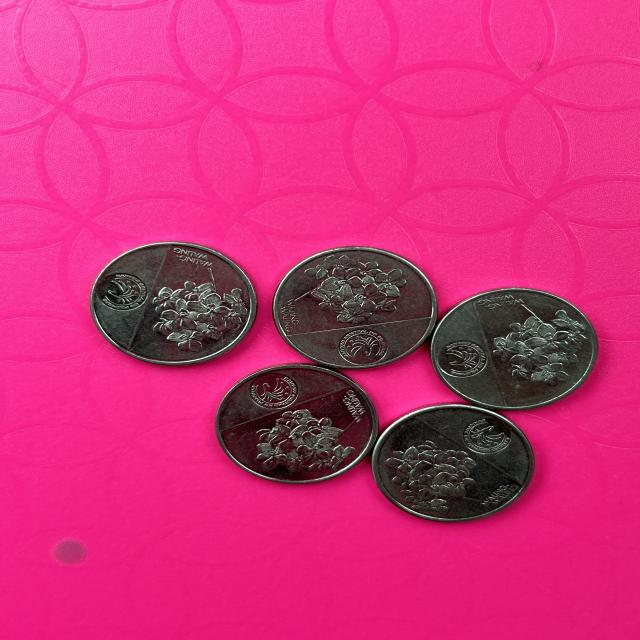1_New_Back: (482, 297, 590, 389), (295, 252, 412, 319), (385, 434, 474, 518), (151, 278, 252, 348), (248, 409, 360, 471)
